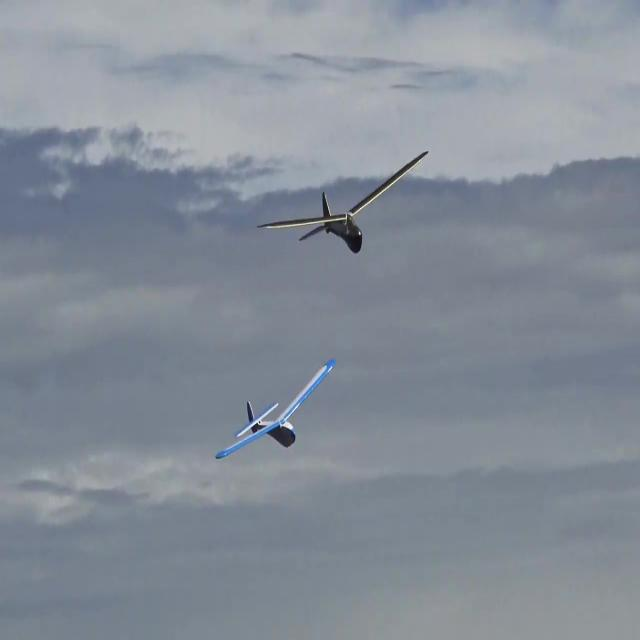iha: (257, 173, 429, 218), (246, 388, 305, 429)
